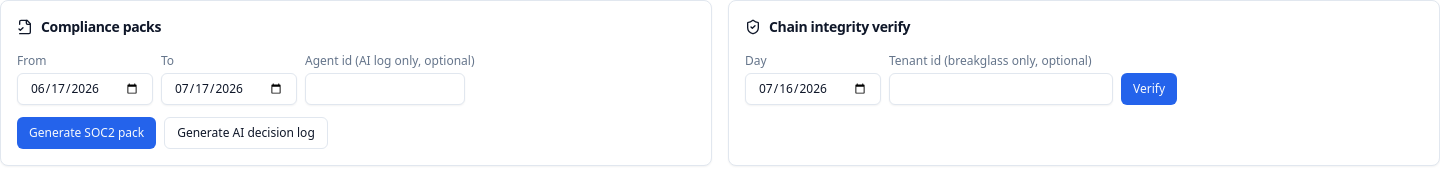
Test: AuditComplianceCard — chain integrity verify › surfaces an unsealed-day 409 verbatim, not a fake result
Click the button "Verify": {"x": 1149, "y": 89} [1121,73,1177,105]
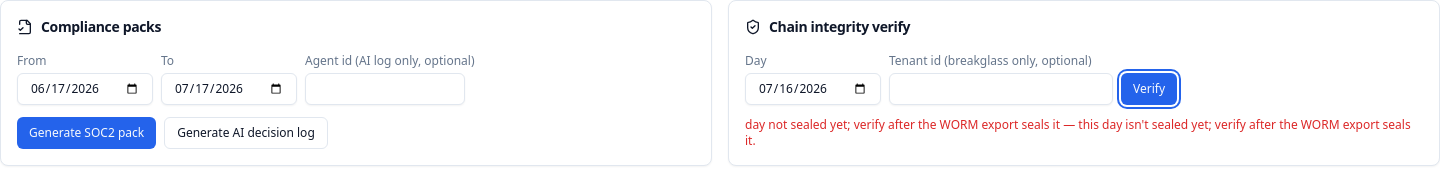
Expected: the text "day not sealed yet" is shown, [745,116,1060,133]
